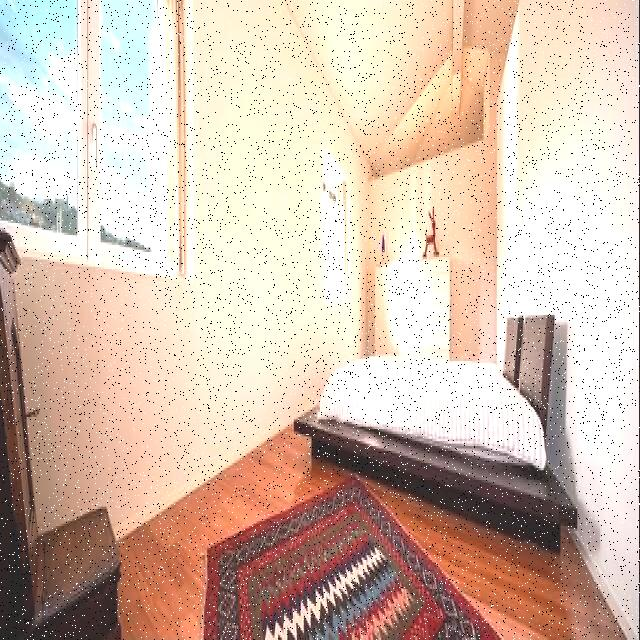bed: (312, 320, 550, 449)
